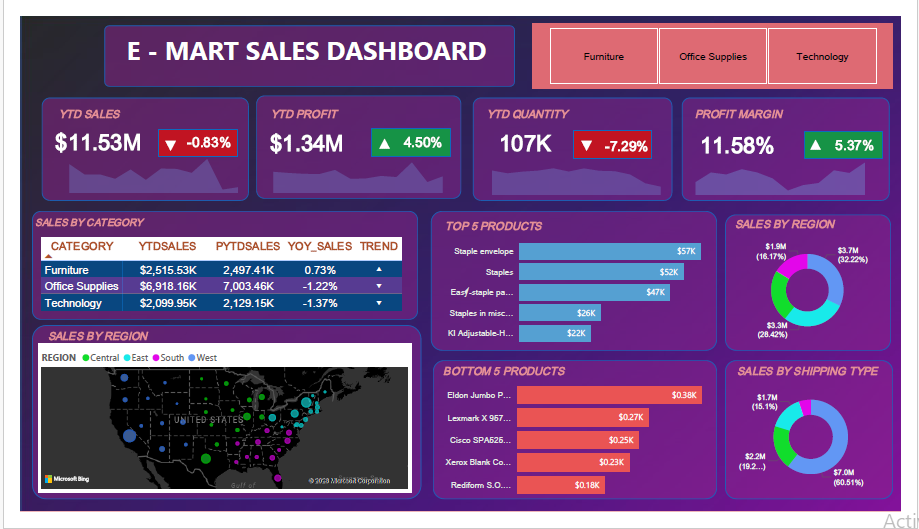

What the dashboard file says about the page in this screenshot:
{"tool":"powerbi","page":{"name":"Page 1","canvas":[1280,720],"ordinal":0},"visuals":[{"type":"shape","box":[16.8,448.5,566.1,253.6],"z":0},{"type":"shape","box":[31.2,117.6,300.5,150.2],"z":1000},{"type":"shape","box":[121.9,12.8,596.7,89.3],"z":2000},{"type":"textbox","box":[113.4,18.4,605.2,69.4],"z":3000},{"type":"card","fields":{"Values":["ecommerce_data_excel xlsx - ecommerce_data.YTDSALES"]},"box":[38.3,151.7,150.2,60.9],"z":4000},{"type":"areaChart","fields":{"Category":["CALENDAR.MONTH"],"Y":["Sum(ecommerce_data_excel xlsx - ecommerce_data.sales_per_order)"]},"box":[56.7,192.8,273.5,68],"z":5000},{"type":"shape","box":[199.8,164.4,114.8,39.7],"z":6000},{"type":"card","fields":{"Values":["ecommerce_data_excel xlsx - ecommerce_data.YOY_SALES"]},"box":[235.3,163,79.4,41.1],"z":7000},{"type":"card","fields":{"Values":["ecommerce_data_excel xlsx - ecommerce_data.TREND_SALES"]},"box":[180,165.8,78,39.7],"z":8000},{"type":"textbox","box":[31.2,124.7,138.9,32.6],"z":9000},{"type":"shape","box":[343,114.8,297.6,150.2],"z":10000},{"type":"card","fields":{"Values":["ecommerce_data_excel xlsx - ecommerce_data.YTD_PROFIT"]},"box":[341.6,153.1,150.2,60.9],"z":11000},{"type":"areaChart","fields":{"Category":["CALENDAR.MONTH"],"Y":["Sum(ecommerce_data_excel xlsx - ecommerce_data.profit_per_order)"]},"box":[354.3,192.8,273.5,68],"z":12000},{"type":"textbox","box":[343,124.7,138.9,32.6],"z":13000},{"type":"shape","box":[655.6,117.8,290,150],"z":14000},{"type":"card","fields":{"Values":["ecommerce_data_excel xlsx - ecommerce_data.YTD_QUANTITY"]},"box":[659.1,153.1,150.2,60.9],"z":15000},{"type":"areaChart","fields":{"Category":["CALENDAR.MONTH"],"Y":["Sum(ecommerce_data_excel xlsx - ecommerce_data.order_quantity)"]},"box":[671.8,195.6,273.5,68],"z":16000},{"type":"textbox","box":[667.6,124.7,138.9,32.6],"z":17000},{"type":"shape","box":[962.4,117.6,301.9,150.2],"z":18000},{"type":"card","fields":{"Values":["ecommerce_data_excel xlsx - ecommerce_data.YTD_PROFITMARGIN"]},"box":[968,155.9,150.2,60.9],"z":19000},{"type":"areaChart","fields":{"Category":["CALENDAR.MONTH"],"Y":["ecommerce_data_excel xlsx - ecommerce_data.PROFIT_MARGIN"]},"box":[968,195.6,273.5,68],"z":20000},{"type":"textbox","box":[970.9,124.7,147.4,32.6],"z":21000},{"type":"shape","box":[510.2,163,114.8,39.7],"z":22000},{"type":"card","fields":{"Values":["ecommerce_data_excel xlsx - ecommerce_data.YOY_PROFIT"]},"box":[535.7,164.4,100.6,38.3],"z":23000},{"type":"card","fields":{"Values":["ecommerce_data_excel xlsx - ecommerce_data.TREND_PROFIT"]},"box":[491.8,165.8,76.5,39.7],"z":24000},{"type":"shape","box":[818.9,164.4,115.6,40],"z":25000},{"type":"shape","box":[1139.5,167.2,114.8,39.7],"z":26000},{"type":"card","fields":{"Values":["ecommerce_data_excel xlsx - ecommerce_data.YOY_QUANTITY1"]},"box":[847.8,167.8,100,38.9],"z":27000},{"type":"card","fields":{"Values":["ecommerce_data_excel xlsx - ecommerce_data.TREND_QUANTITY"]},"box":[808.9,166.7,76.7,38.9],"z":28000},{"type":"card","fields":{"Values":["ecommerce_data_excel xlsx - ecommerce_data.YOY_MARGIN"]},"box":[1167.9,168.7,92.1,38.3],"z":29000},{"type":"card","fields":{"Values":["ecommerce_data_excel xlsx - ecommerce_data.TREND_PROFITMARGIN"]},"box":[1118.3,168.7,76.5,39.7],"z":30000},{"type":"shape","box":[17,283.5,561.3,157.3],"z":31000},{"type":"pivotTable","fields":{"Rows":["ecommerce_data_excel xlsx - ecommerce_data.category_name"],"Values":["ecommerce_data_excel xlsx - ecommerce_data.YTDSALES","ecommerce_data_excel xlsx - ecommerce_data.PYTDSALES","ecommerce_data_excel xlsx - ecommerce_data.YOY_SALES","ecommerce_data_excel xlsx - ecommerce_data.TREND_SALES"]},"box":[25.2,317.5,561,122.6],"z":32000},{"type":"textbox","box":[5.7,283.5,188.5,34],"z":33000},{"type":"map","fields":{"Y":["us_state_long_lat_codes.latitude"],"X":["us_state_long_lat_codes.longitude"],"Size":["ecommerce_data_excel xlsx - ecommerce_data.YTDSALES"],"Series":["ecommerce_data_excel xlsx - ecommerce_data.customer_region"]},"box":[25.5,476.2,542.8,215.4],"z":34000},{"type":"shape","box":[596.7,283.5,416.7,202.7],"z":35000},{"type":"clusteredBarChart","fields":{"Category":["ecommerce_data_excel xlsx - ecommerce_data.product_name"],"Y":["ecommerce_data_excel xlsx - ecommerce_data.YTDSALES"]},"box":[605.2,304.7,433.7,185.7],"z":36000},{"type":"shape","box":[599.5,500.3,413.9,201.3],"z":37000},{"type":"clusteredBarChart","fields":{"Category":["ecommerce_data_excel xlsx - ecommerce_data.product_name"],"Y":["ecommerce_data_excel xlsx - ecommerce_data.YTDSALES"]},"box":[602.4,511.7,433.7,201.3],"z":38000},{"type":"shape","box":[1024.7,287.7,240.9,198.4],"z":39000},{"type":"shape","box":[1024.7,500.3,243.8,201.3],"z":40000},{"type":"donutChart","fields":{"Category":["ecommerce_data_excel xlsx - ecommerce_data.customer_region"],"Y":["ecommerce_data_excel xlsx - ecommerce_data.YTDSALES"]},"box":[1043.1,320.3,202.7,155.9],"z":41000},{"type":"donutChart","fields":{"Category":["ecommerce_data_excel xlsx - ecommerce_data.shipping_type"],"Y":["ecommerce_data_excel xlsx - ecommerce_data.YTDSALES"]},"box":[1038.9,532.9,221.1,157.3],"z":42000},{"type":"textbox","box":[602.4,287.7,172.9,32.6],"z":43000},{"type":"textbox","box":[602.4,500.3,202.7,32.6],"z":44000},{"type":"textbox","box":[1024.7,284.9,172.9,32.6],"z":45000},{"type":"textbox","box":[1026.1,498.9,238.1,34],"z":46000},{"type":"textbox","box":[31.2,447.9,163,38.3],"z":47000},{"type":"slicer","fields":{"Values":["ecommerce_data_excel xlsx - ecommerce_data.category_name"]},"box":[744.1,9.9,524.4,95],"z":48000}]}

Visuals, with their boxes in screenshot pixels (x1, y1, x2, y2), scaled from the page's 1280x720 canvas onto the 919x529 screenshot:
shape: 12 330 419 516
shape: 22 86 238 197
shape: 88 9 516 75
textbox: 81 14 516 65
card - ecommerce_data_excel xlsx - ecommerce_data.YTDSALES: 27 111 135 156
areaChart - CALENDAR.MONTH x Sum(ecommerce_data_excel xlsx - ecommerce_data.sales_per_order): 41 142 237 192
shape: 143 121 226 150
card - ecommerce_data_excel xlsx - ecommerce_data.YOY_SALES: 169 120 226 150
card - ecommerce_data_excel xlsx - ecommerce_data.TREND_SALES: 129 122 185 151
textbox: 22 92 122 116
shape: 246 84 460 195
card - ecommerce_data_excel xlsx - ecommerce_data.YTD_PROFIT: 245 112 353 157
areaChart - CALENDAR.MONTH x Sum(ecommerce_data_excel xlsx - ecommerce_data.profit_per_order): 254 142 451 192
textbox: 246 92 346 116
shape: 471 87 679 197
card - ecommerce_data_excel xlsx - ecommerce_data.YTD_QUANTITY: 473 112 581 157
areaChart - CALENDAR.MONTH x Sum(ecommerce_data_excel xlsx - ecommerce_data.order_quantity): 482 144 679 194
textbox: 479 92 579 116
shape: 691 86 908 197
card - ecommerce_data_excel xlsx - ecommerce_data.YTD_PROFITMARGIN: 695 115 803 159
areaChart - CALENDAR.MONTH x ecommerce_data_excel xlsx - ecommerce_data.PROFIT_MARGIN: 695 144 891 194
textbox: 697 92 803 116
shape: 366 120 449 149
card - ecommerce_data_excel xlsx - ecommerce_data.YOY_PROFIT: 385 121 457 149
card - ecommerce_data_excel xlsx - ecommerce_data.TREND_PROFIT: 353 122 408 151
shape: 588 121 671 150
shape: 818 123 901 152
card - ecommerce_data_excel xlsx - ecommerce_data.YOY_QUANTITY1: 609 123 680 152
card - ecommerce_data_excel xlsx - ecommerce_data.TREND_QUANTITY: 581 122 636 151
card - ecommerce_data_excel xlsx - ecommerce_data.YOY_MARGIN: 839 124 905 152
card - ecommerce_data_excel xlsx - ecommerce_data.TREND_PROFITMARGIN: 803 124 858 153
shape: 12 208 415 324
pivotTable - ecommerce_data_excel xlsx - ecommerce_data.category_name x ecommerce_data_excel xlsx - ecommerce_data.YTDSALES: 18 233 421 323
textbox: 4 208 139 233
map - us_state_long_lat_codes.latitude x us_state_long_lat_codes.longitude: 18 350 408 508
shape: 428 208 728 357
clusteredBarChart - ecommerce_data_excel xlsx - ecommerce_data.product_name x ecommerce_data_excel xlsx - ecommerce_data.YTDSALES: 435 224 746 360
shape: 430 368 728 515
clusteredBarChart - ecommerce_data_excel xlsx - ecommerce_data.product_name x ecommerce_data_excel xlsx - ecommerce_data.YTDSALES: 433 376 744 524
shape: 736 211 909 357
shape: 736 368 911 515
donutChart - ecommerce_data_excel xlsx - ecommerce_data.customer_region x ecommerce_data_excel xlsx - ecommerce_data.YTDSALES: 749 235 894 350
donutChart - ecommerce_data_excel xlsx - ecommerce_data.shipping_type x ecommerce_data_excel xlsx - ecommerce_data.YTDSALES: 746 392 905 507
textbox: 433 211 557 235
textbox: 433 368 578 392
textbox: 736 209 860 233
textbox: 737 367 908 392
textbox: 22 329 139 357
slicer - ecommerce_data_excel xlsx - ecommerce_data.category_name: 534 7 911 77
